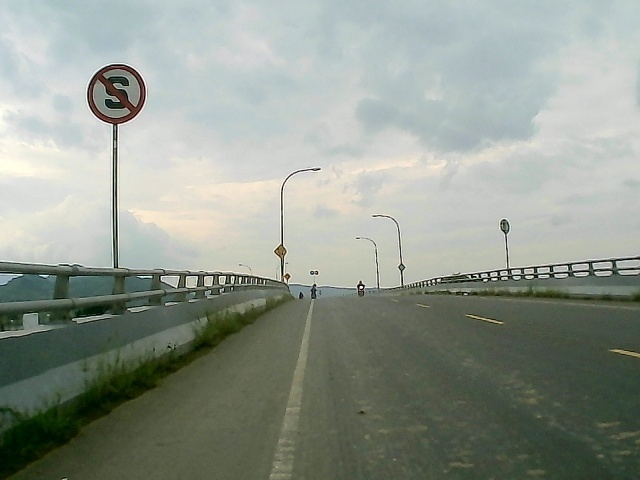Dilarang berhenti: (81, 61, 149, 127)
